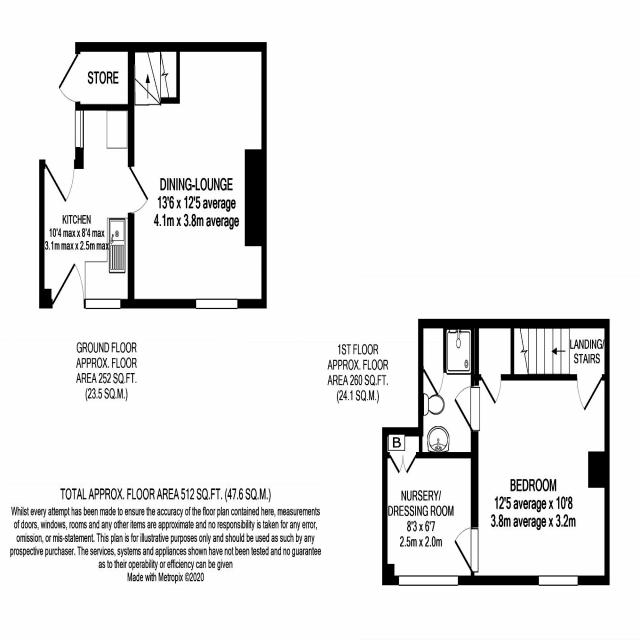DOOR: (51, 261, 85, 309), (453, 383, 481, 433), (44, 159, 75, 204), (453, 525, 479, 574), (128, 165, 149, 214)
ROOM: (128, 41, 267, 310), (453, 374, 610, 586), (39, 104, 150, 309)
WINDOW: (398, 574, 459, 587), (196, 298, 238, 310), (538, 575, 578, 587), (85, 298, 121, 310), (74, 109, 84, 149)
